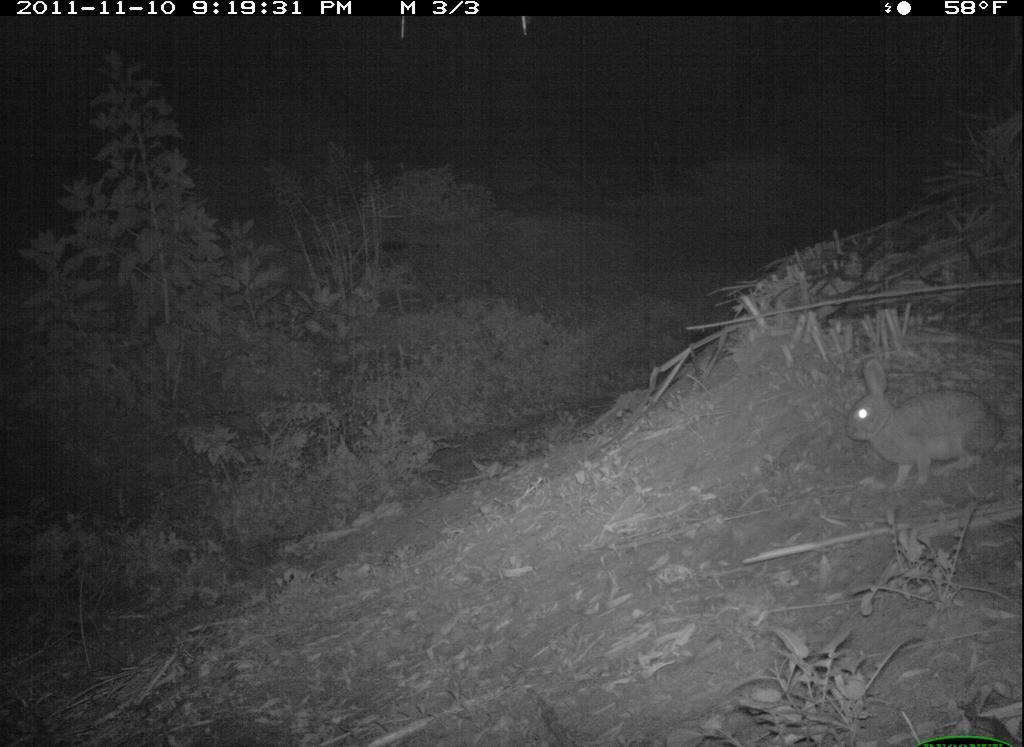rabbit: (839, 347, 1016, 493)
